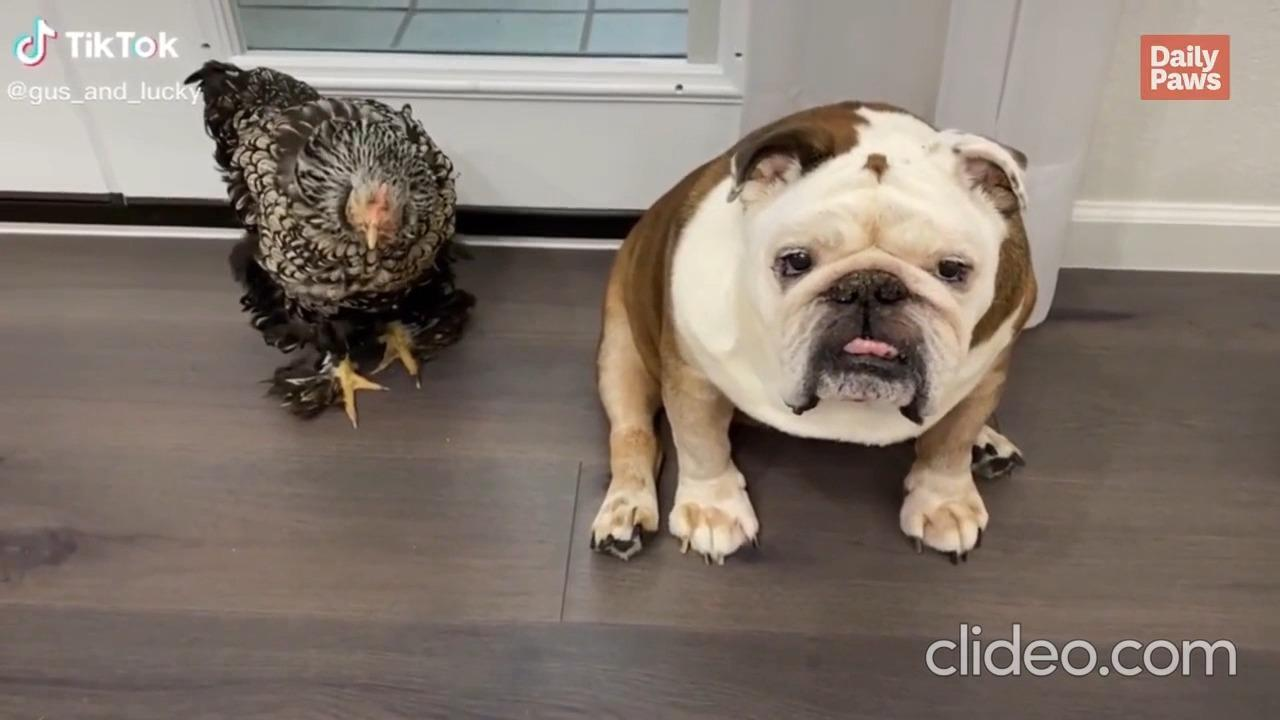Normal: (220, 127, 477, 420)
